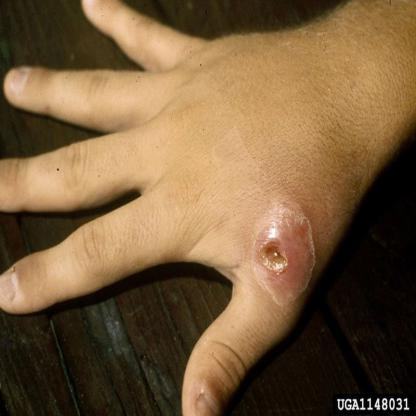Fire ant: (252, 216, 298, 282)
